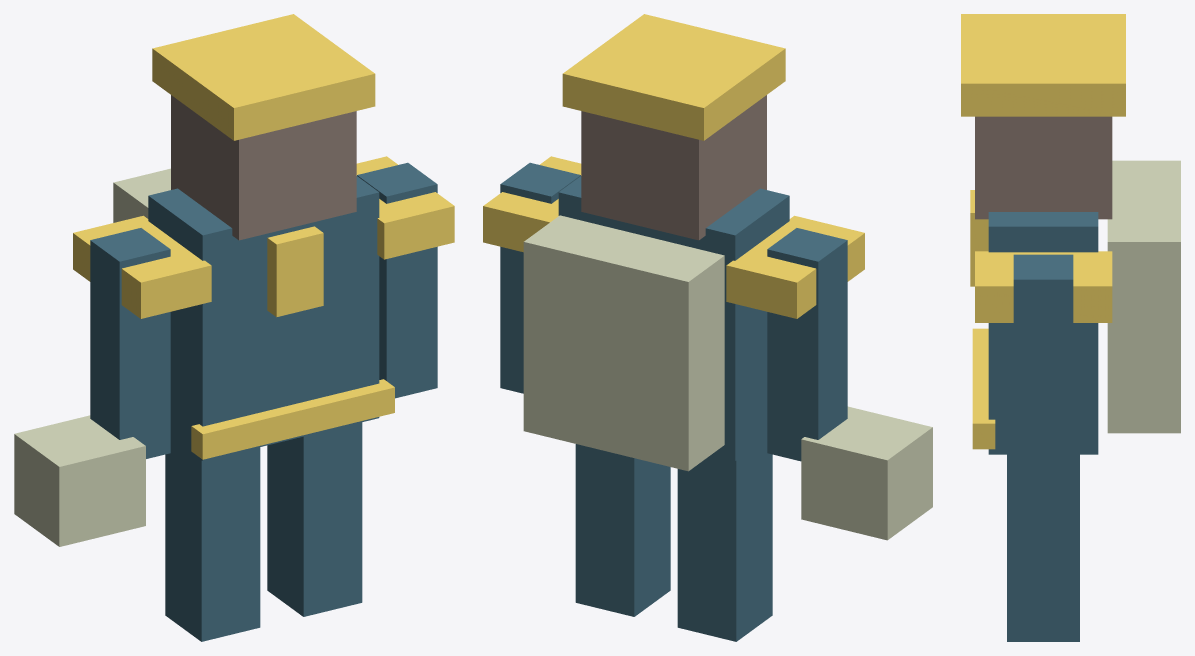
File: 01_astra_echohand_watcher_of_ember.glb
The picture shows the model from 3 angles, left to right: view 1: azimuth 30°, elevation 25°; view 2: azimuth 150°, elevation 25°; view 3: azimuth 270°, elevation 25°; orthographic projection.
Visible parts, largest first — view 1: Astra Echohand, Watcher of Ember; view 2: Astra Echohand, Watcher of Ember; view 3: Astra Echohand, Watcher of Ember.
Boxes of the visible parts, x1=… form: Astra Echohand, Watcher of Ember: x1=14, y1=14, x2=454, y2=641; Astra Echohand, Watcher of Ember: x1=483, y1=14, x2=932, y2=641; Astra Echohand, Watcher of Ember: x1=961, y1=14, x2=1180, y2=641.
Size of the model in its own units: 1.03 by 1.39 by 0.4984.
